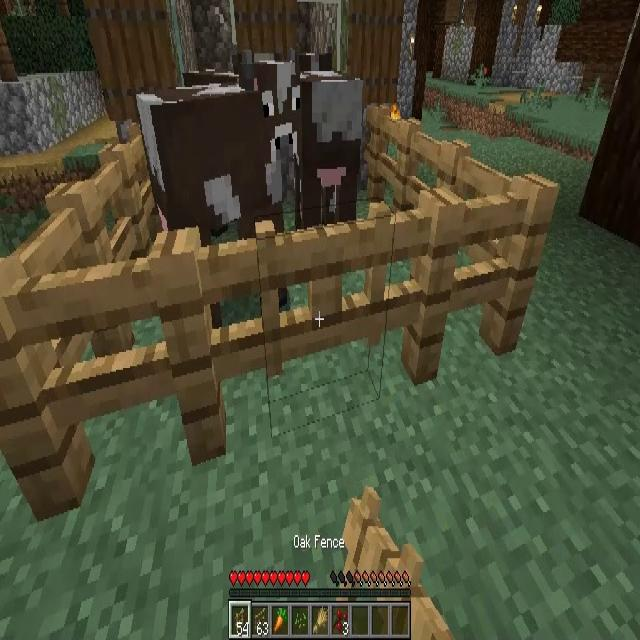cow: (137, 63, 293, 309), (291, 54, 364, 240)
